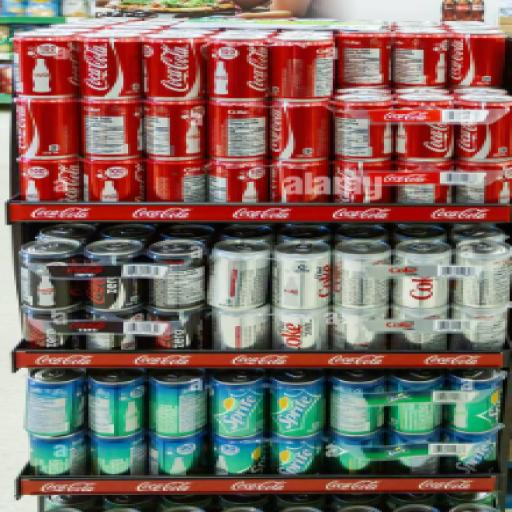coca_cola: (81, 31, 140, 98), (16, 33, 77, 96), (270, 34, 330, 97), (144, 30, 200, 97), (209, 31, 263, 98), (335, 94, 391, 157), (456, 97, 510, 160), (19, 97, 74, 158), (272, 100, 326, 157), (449, 30, 503, 86), (209, 100, 263, 156), (147, 101, 200, 155), (84, 101, 137, 155), (396, 31, 447, 85), (337, 33, 389, 85), (335, 158, 391, 202), (84, 157, 142, 199), (147, 158, 205, 200), (456, 158, 510, 203), (21, 157, 77, 200), (209, 160, 268, 200), (272, 160, 328, 200), (398, 123, 451, 158), (398, 94, 449, 119), (398, 183, 449, 203), (398, 158, 449, 175), (440, 172, 482, 183), (100, 181, 114, 200)
